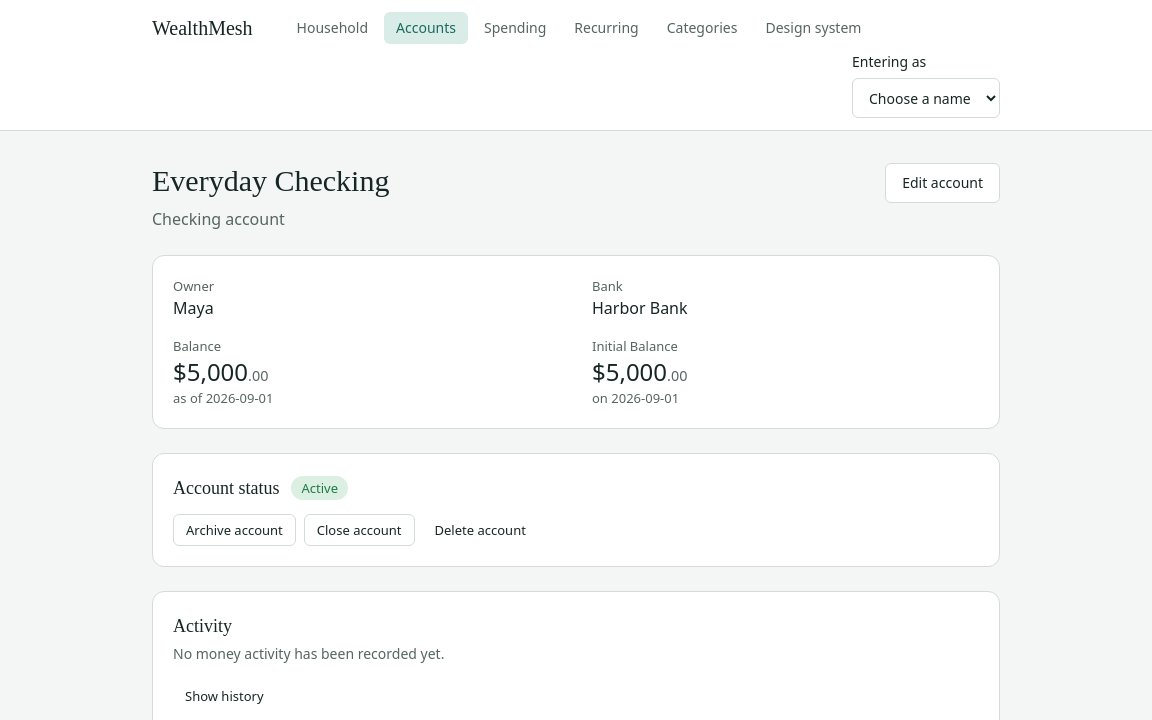
it: splitting an expense › V2_SPLITS_003 refuses an empty category and amount before the review
Step 1. Select "Maya" in the dropdown labelled "Entering as" → (926, 98), box [852,78,1000,118]
(page scrolled)
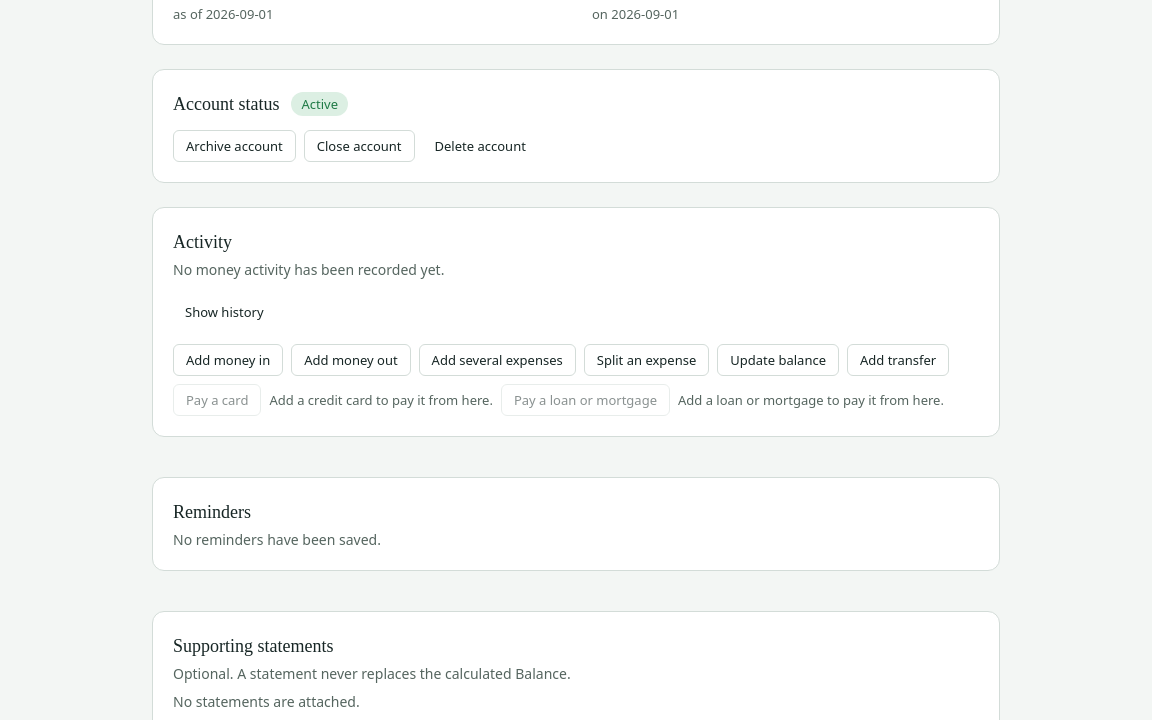
Step 2. Click the button "Split an expense" → (647, 360), box [584,344,709,376]
(page scrolled)
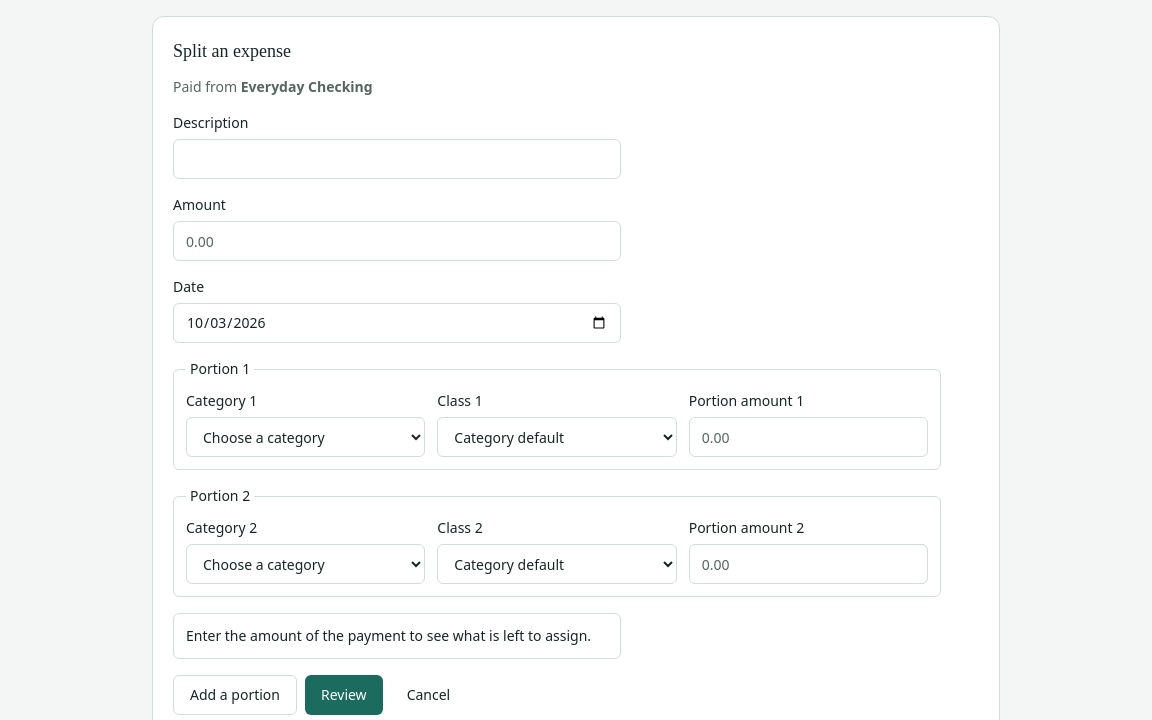
Step 3. Type "10.00" into the field labelled "Amount" → (397, 241), box [173,221,621,261]
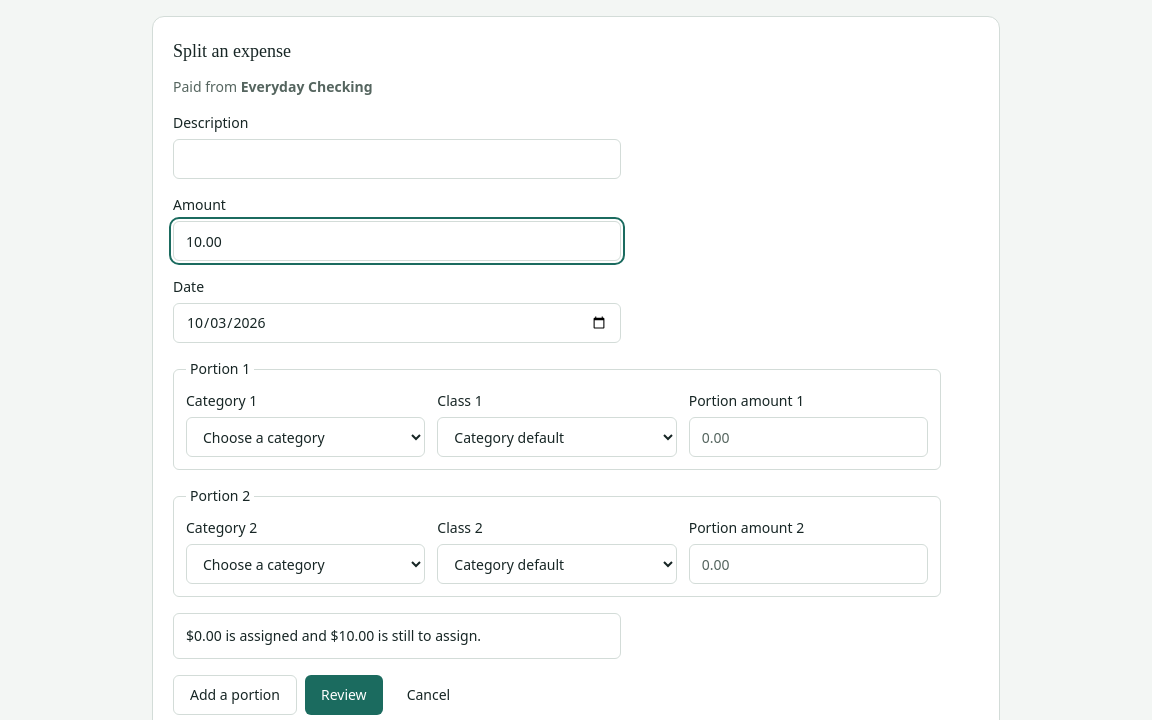
Step 4. Type "2026-09-10" into the date field labelled "Date" → (397, 323), box [173,303,621,343]
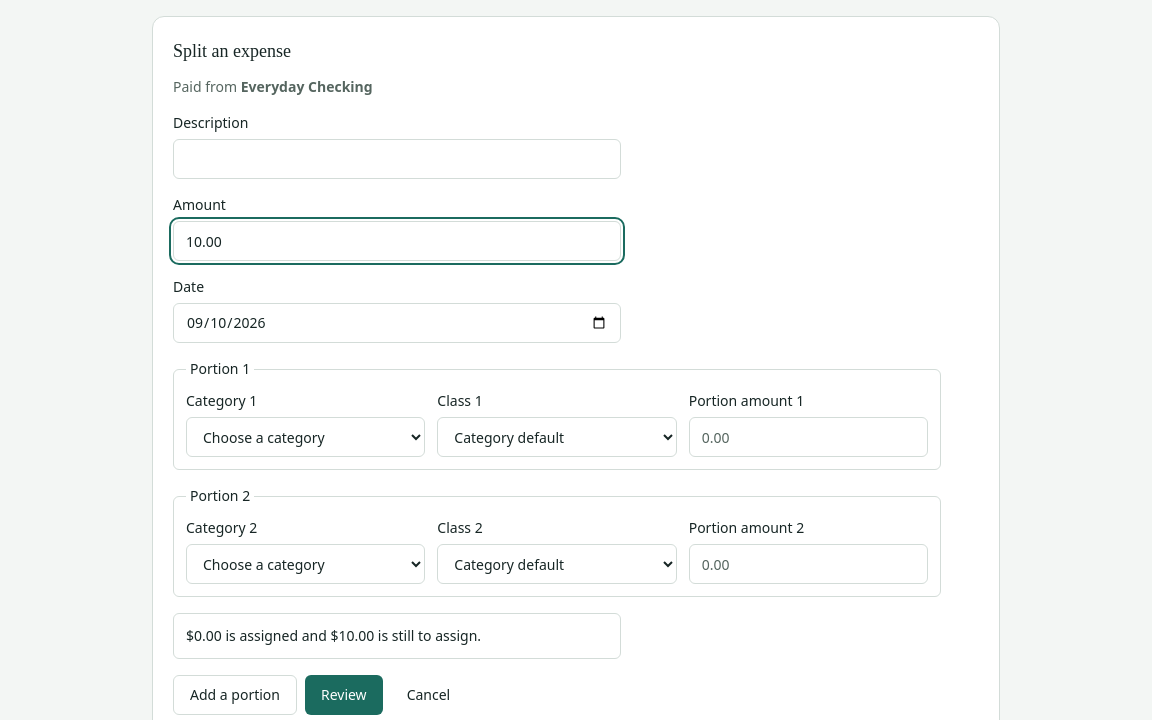
Step 5. Select "Groceries" in the dropdown labelled "Category 1" → (306, 437), box [186,417,425,457]
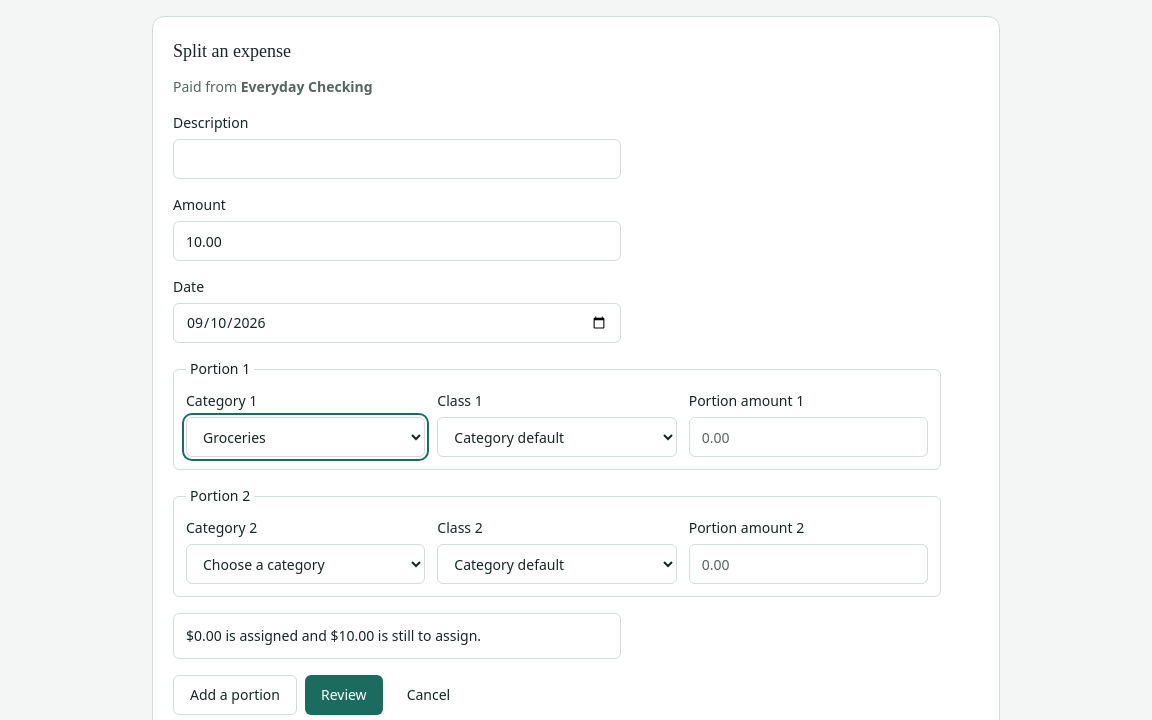
Step 6. Click the button "Review" → (344, 695), box [305,675,383,715]
(page scrolled)
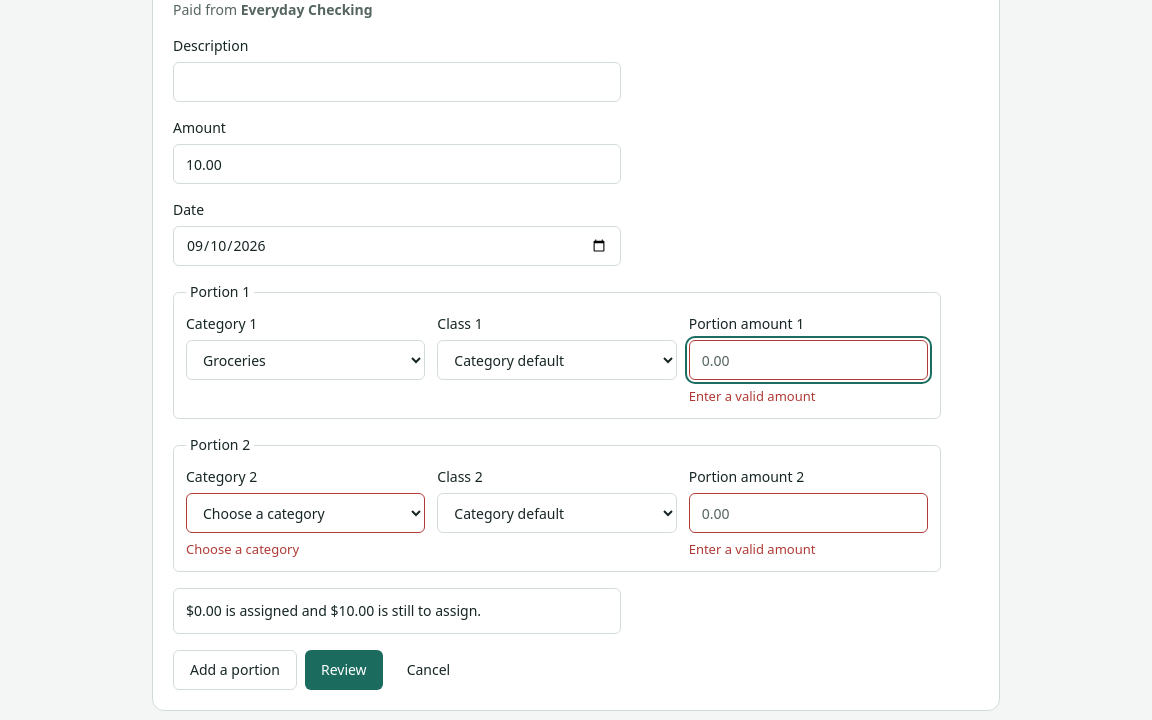
expect the text "Choose a category" is shown once: met, box [186,540,299,558]
expect the text "Enter a valid amount" is shown 2 times: met, box [689,387,816,405]; [689,540,816,558]
